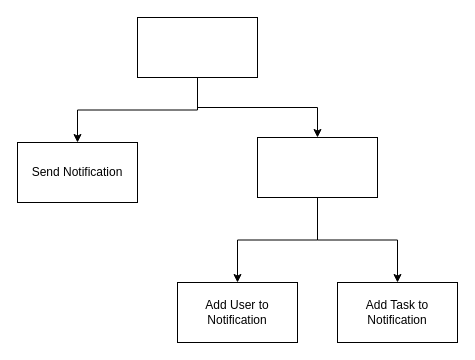
The diagram is 475 pixels wide and 360 high, and some of its shapes have lost their labels. The centre of each missing label's shape, as x and y in pixels:
"Add entity to Notification" belongs at (x=317, y=167).
"Notification" belongs at (x=197, y=47).
